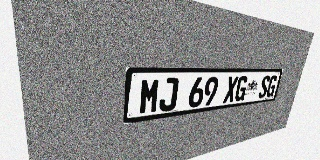6: (188, 77, 206, 108)
9: (202, 77, 219, 106)
G: (234, 76, 249, 102), (265, 75, 278, 97)
J: (158, 78, 179, 112)
M: (138, 78, 161, 115)
S: (257, 75, 271, 98)
X: (223, 76, 239, 103)
